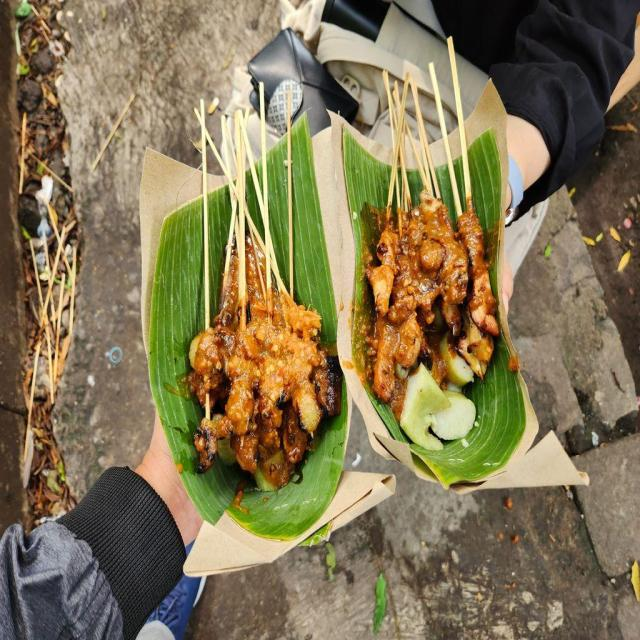Sate: (193, 83, 339, 504), (369, 65, 504, 399)
